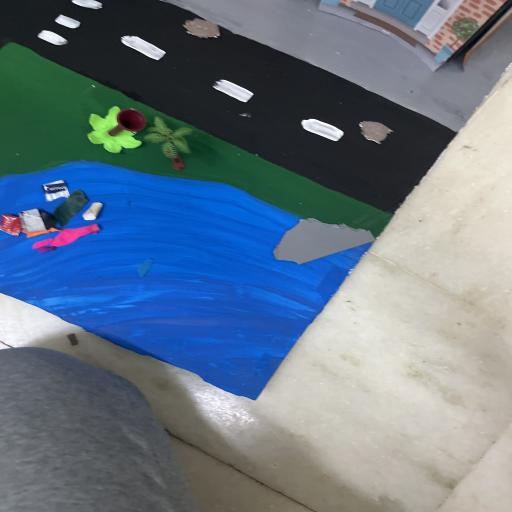encroachment: (271, 216, 378, 264)
fallen trees: (81, 103, 151, 153)
porthole: (354, 118, 398, 146), (177, 18, 226, 40)
trash: (2, 176, 113, 254)
